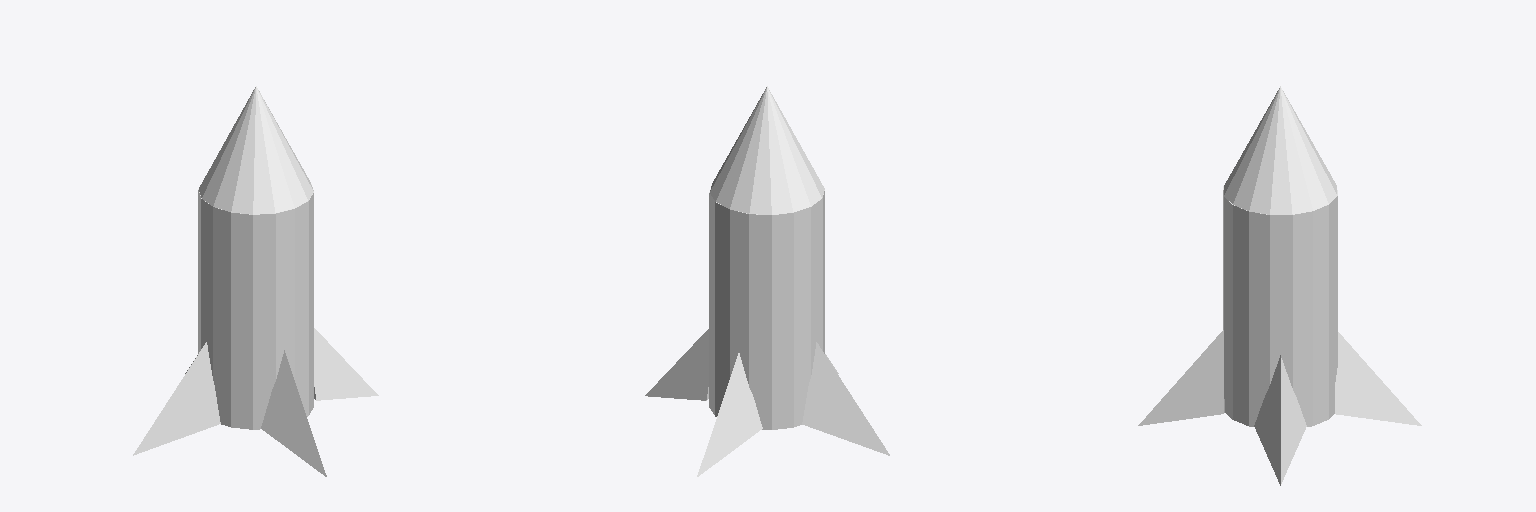
Rendered from Rocket.obj.
3 renders of one model, left to right at view 1: azimuth 30°, elevation 25°; view 2: azimuth 150°, elevation 25°; view 3: azimuth 270°, elevation 25°, orthographic.
Parts seen in each view (by area): view 1: Cylinder4, cone9, tetrahedron5_copy6, tetrahedron5_copy8, tetrahedron5; view 2: Cylinder4, cone9, tetrahedron5_copy6, tetrahedron5_copy7, tetrahedron5; view 3: Cylinder4, cone9, tetrahedron5_copy8, tetrahedron5_copy7, tetrahedron5.
Part boxes in pixels (bbox=[...]): Cylinder4: bbox=[198, 184, 313, 429]; cone9: bbox=[199, 86, 313, 214]; tetrahedron5_copy6: bbox=[133, 342, 220, 455]; tetrahedron5_copy8: bbox=[261, 350, 326, 476]; tetrahedron5: bbox=[314, 328, 378, 400]; Cylinder4: bbox=[709, 185, 824, 429]; cone9: bbox=[710, 86, 824, 214]; tetrahedron5_copy6: bbox=[802, 342, 889, 455]; tetrahedron5_copy7: bbox=[697, 353, 762, 476]; tetrahedron5: bbox=[645, 329, 708, 400]; Cylinder4: bbox=[1223, 186, 1337, 426]; cone9: bbox=[1224, 86, 1336, 214]; tetrahedron5_copy8: bbox=[1138, 330, 1224, 425]; tetrahedron5_copy7: bbox=[1335, 332, 1421, 425]; tetrahedron5: bbox=[1254, 355, 1306, 485].
Bounding box in the file's own units: 2.13 × 2.8 × 2.13.